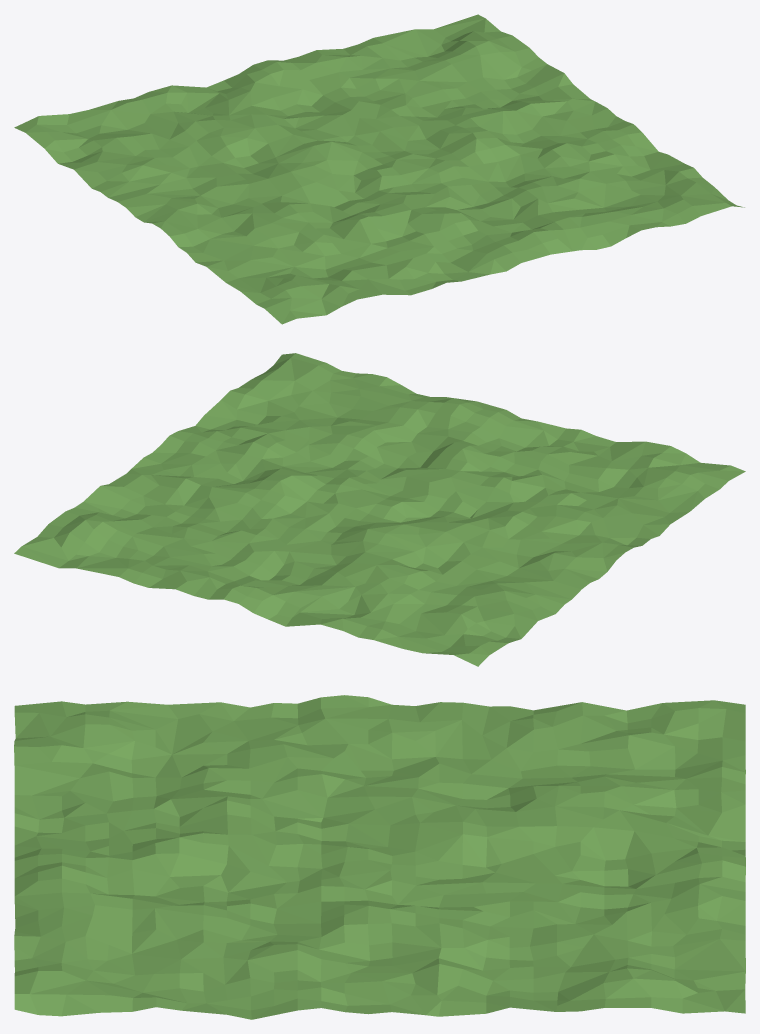
The model's file is Terrain_4.fbx.
3 views of the same model, one above another, from view 1: azimuth 30°, elevation 25°; view 2: azimuth 150°, elevation 25°; view 3: azimuth 270°, elevation 25° (orthographic). The views are drawn at different scales.
Parts seen in each view (by area): view 1: Terrain4_mesh; view 2: Terrain4_mesh; view 3: Terrain4_mesh.
Part boxes in pixels (left/top/right/bottom): Terrain4_mesh: left=14, top=14, right=744, bottom=324; Terrain4_mesh: left=14, top=353, right=745, bottom=666; Terrain4_mesh: left=14, top=695, right=745, bottom=1019.
Size of the model in its own units: 40042 by 1849 by 40054.
